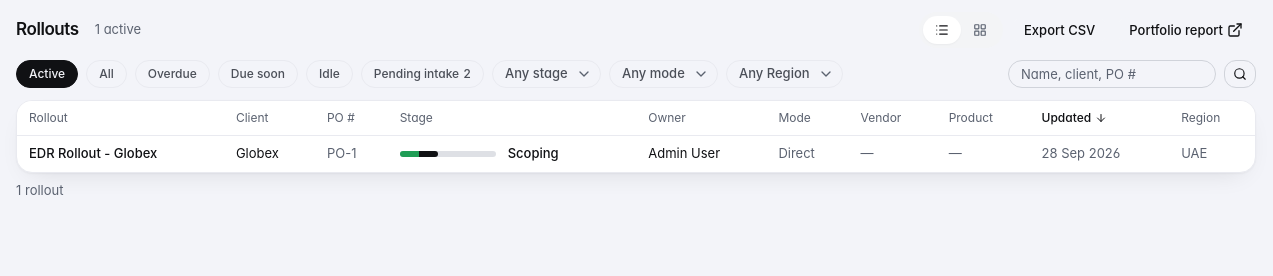
Test case: Projects › offers the Pending intake filter only while a deal waits, and lists the deals there
Expected: the table is shown, [17,101,1255,172]
What coordinates should you click on to do the following:
click the button "Pending intake2"
I would click on:
 (422, 74)
Its box is [361,60,484,88].
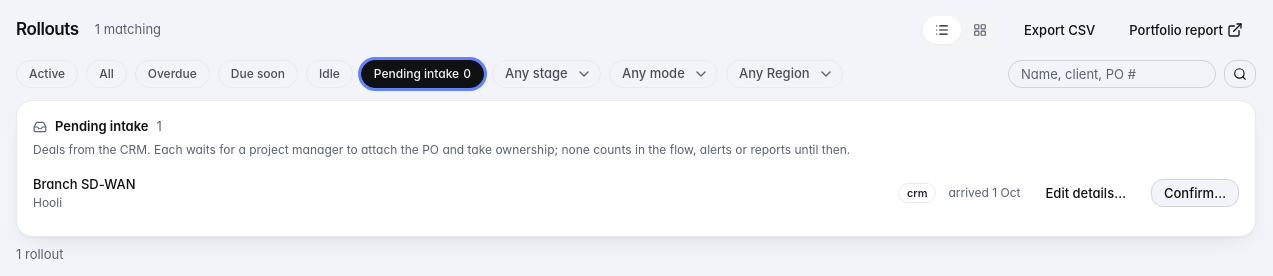
Now the text "Branch SD-WAN" is shown, box [33,176,136,192]
Now the table is gone
